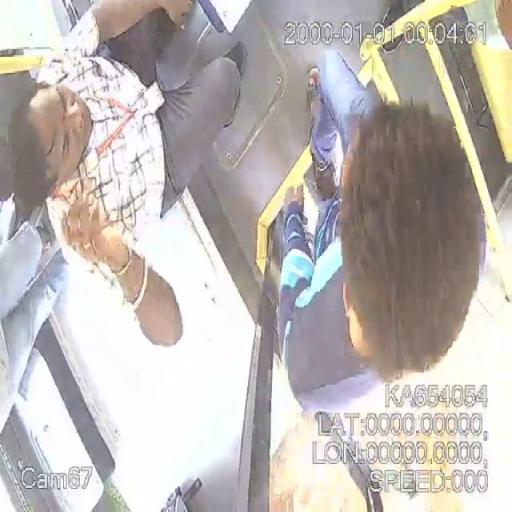persona: (7, 0, 244, 350), (277, 57, 489, 399), (0, 220, 65, 438)
